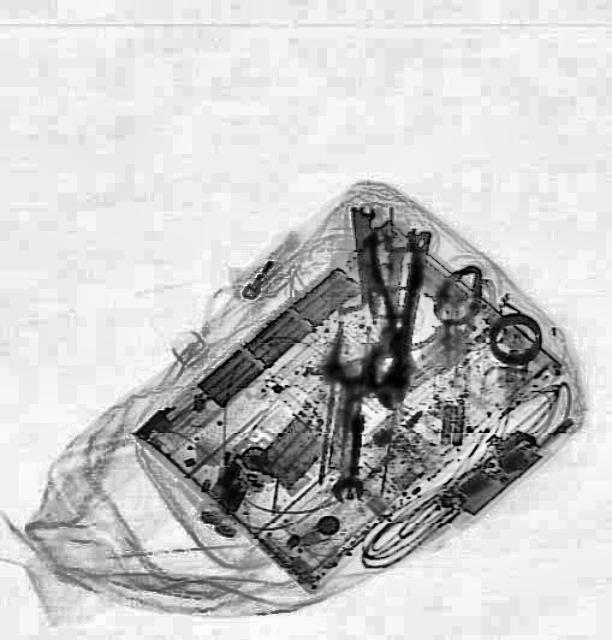Wrench: (328, 355, 368, 503)
